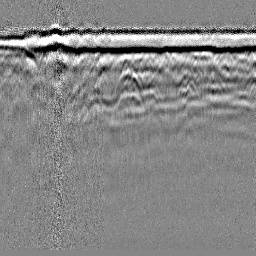cavity: (114, 65, 145, 106)
